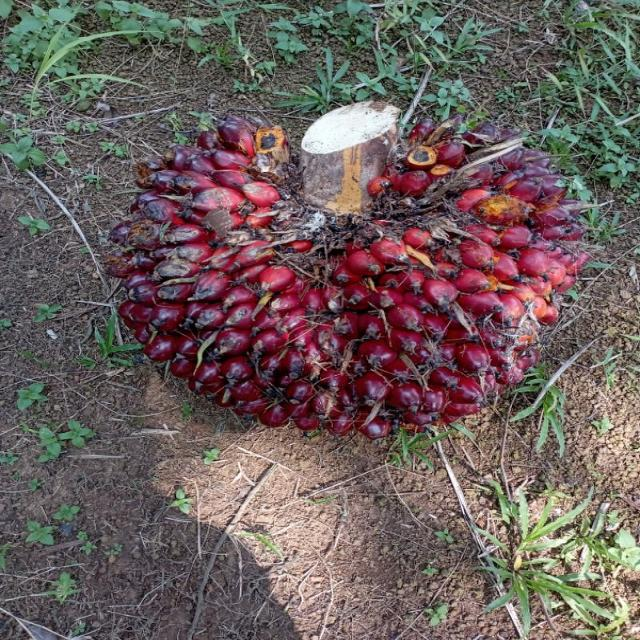fraksi 1: (108, 100, 581, 442)
